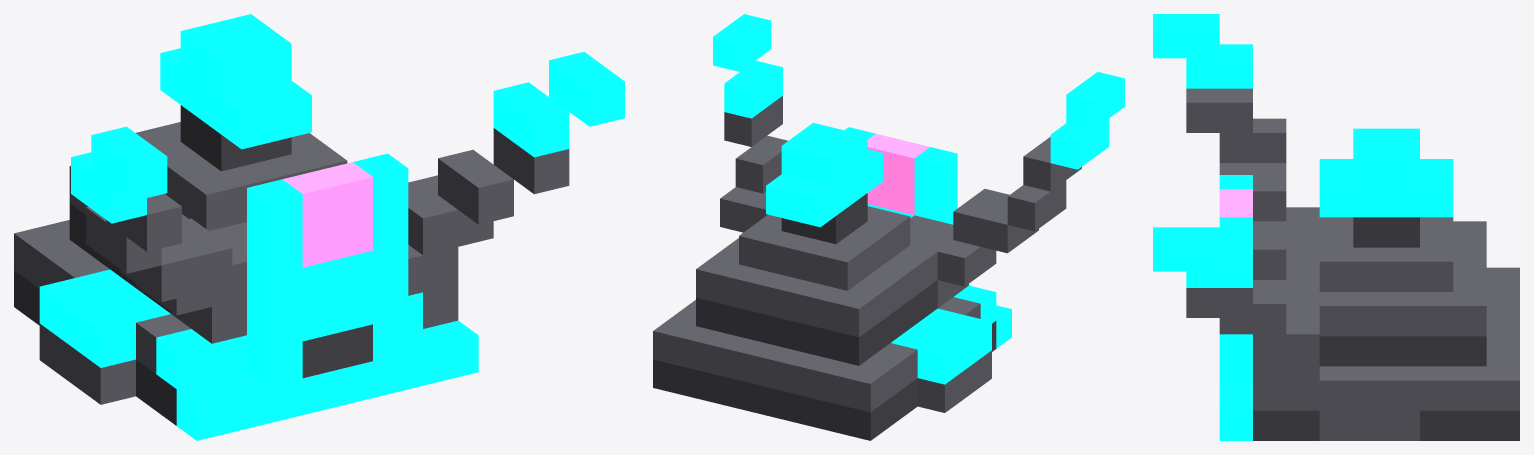
File: neon-ronin-kabuto.glb
3 renders of one model, left to right at view 1: azimuth 30°, elevation 25°; view 2: azimuth 150°, elevation 25°; view 3: azimuth 270°, elevation 25°, orthographic. The views are drawn at different scales.
Visible parts, largest first — view 1: NeonRoninKabuto; view 2: NeonRoninKabuto; view 3: NeonRoninKabuto.
Part boxes in pixels (x1,y1,x2,y2): NeonRoninKabuto: (14,14,624,440); NeonRoninKabuto: (653,14,1124,440); NeonRoninKabuto: (1153,14,1519,440).
Bounding box in the file's own units: 0.4375 × 0.2812 × 0.3438.
